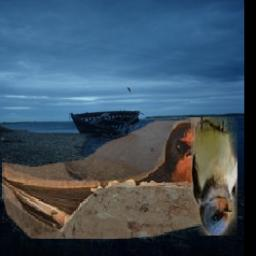Swallow: (3, 118, 206, 240), (191, 117, 238, 236)
